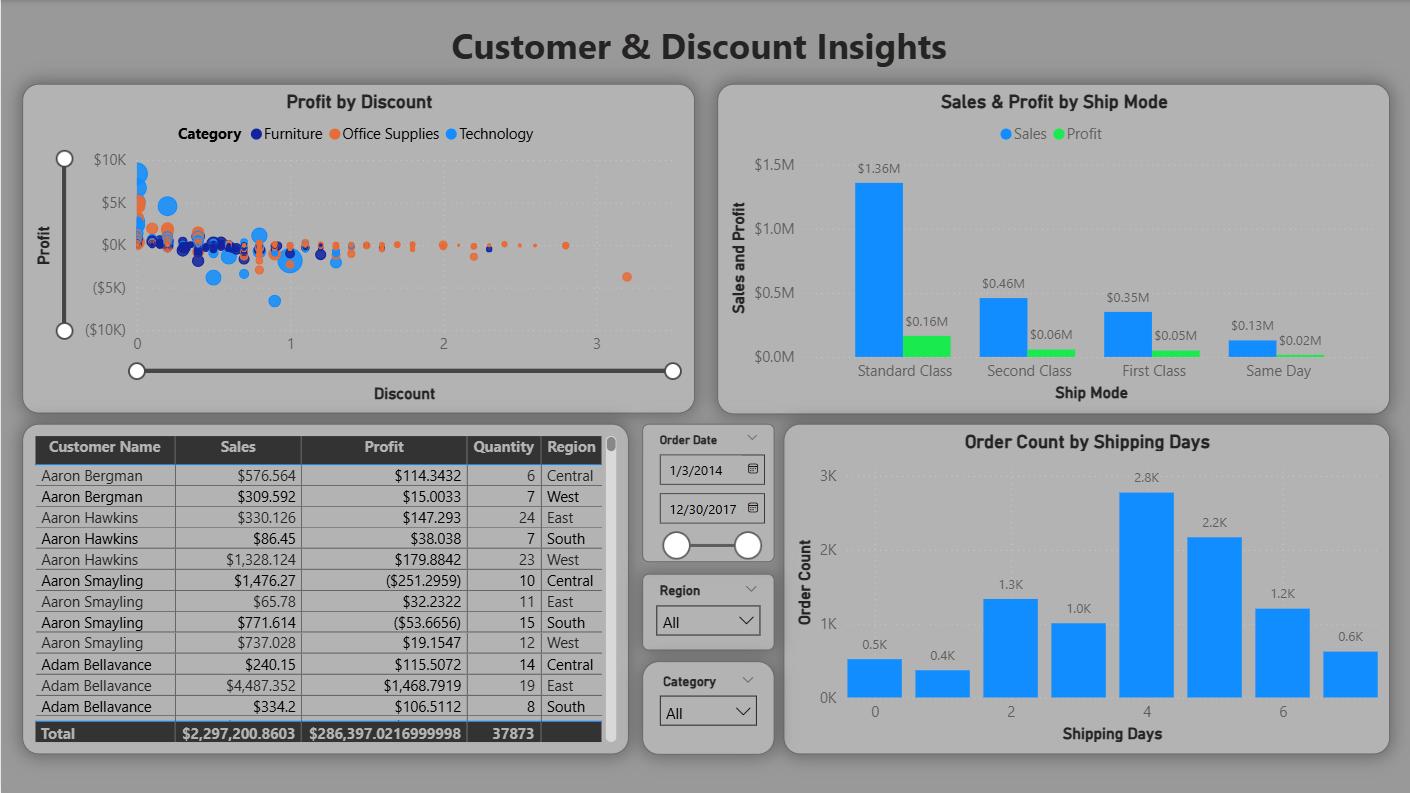

The dashboard page shown, as its layout file describes it:
{"tool":"powerbi","page":{"name":"Customer and Discount","canvas":[1280,720],"ordinal":2},"visuals":[{"type":"textbox","box":[403.5,15.1,465,60],"z":0},{"type":"scatterChart","title":"Profit by Discount","fields":{"X":["Sum(Superstore_clean.Discount)"],"Y":["Sum(Superstore_clean.Profit)"],"Size":["Sum(Superstore_clean.Sales)"],"Category":["Superstore_clean.Order ID"],"Series":["Superstore_clean.Category"]},"box":[19.8,75.6,610.5,298.8],"z":1},{"type":"clusteredColumnChart","title":"Sales & Profit by Ship Mode","fields":{"Category":["Superstore_clean.Ship Mode"],"Y":["Sum(Superstore_clean.Sales)","Sum(Superstore_clean.Profit)"]},"box":[650,75.6,610.5,300],"z":2},{"type":"tableEx","fields":{"Values":["Superstore_clean.Customer Name","Sum(Superstore_clean.Sales)","Sum(Superstore_clean.Profit)","Sum(Superstore_clean.Quantity)","Superstore_clean.Region"]},"box":[19.8,384.9,550,300],"z":3},{"type":"columnChart","fields":{"Category":["Superstore_clean.Shipping Days"],"Y":["CountNonNull(Superstore_clean.Order ID)"]},"box":[710.5,384.9,550,300],"z":4},{"type":"slicer","fields":{"Values":["Superstore_clean.Region"]},"box":[581.4,520.9,119.8,69.8],"z":6},{"type":"slicer","fields":{"Values":["Superstore_clean.Category"]},"box":[581.4,600,119.8,84.9],"z":7},{"type":"slicer","fields":{"Values":["Superstore_clean.Order Date"]},"box":[581.4,384.9,120,125.6],"z":8},{"type":"actionButton","box":[0,0,100,40],"z":9}]}

Visuals, with their boxes in screenshot pixels (x1, y1, x2, y2), scaled from the page's 1280x720 canvas onto the 1410x793 screenshot:
textbox: 444:17:957:83
"Profit by Discount" scatterChart: 22:83:694:412
"Sales & Profit by Ship Mode" clusteredColumnChart: 716:83:1389:414
tableEx - Superstore_clean.Customer Name x Sum(Superstore_clean.Sales): 22:424:628:754
columnChart - Superstore_clean.Shipping Days x CountNonNull(Superstore_clean.Order ID): 783:424:1389:754
slicer - Superstore_clean.Region: 640:574:772:651
slicer - Superstore_clean.Category: 640:661:772:754
slicer - Superstore_clean.Order Date: 640:424:773:562
actionButton: 0:0:110:44
